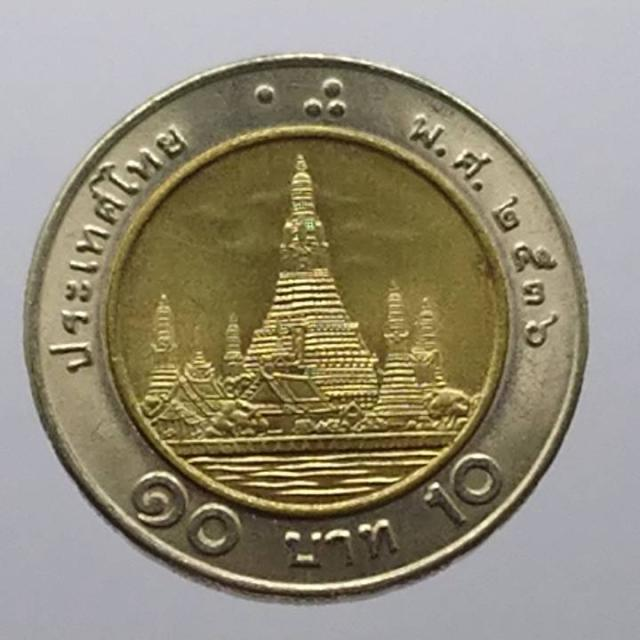10 Bath: (23, 52, 590, 607)
